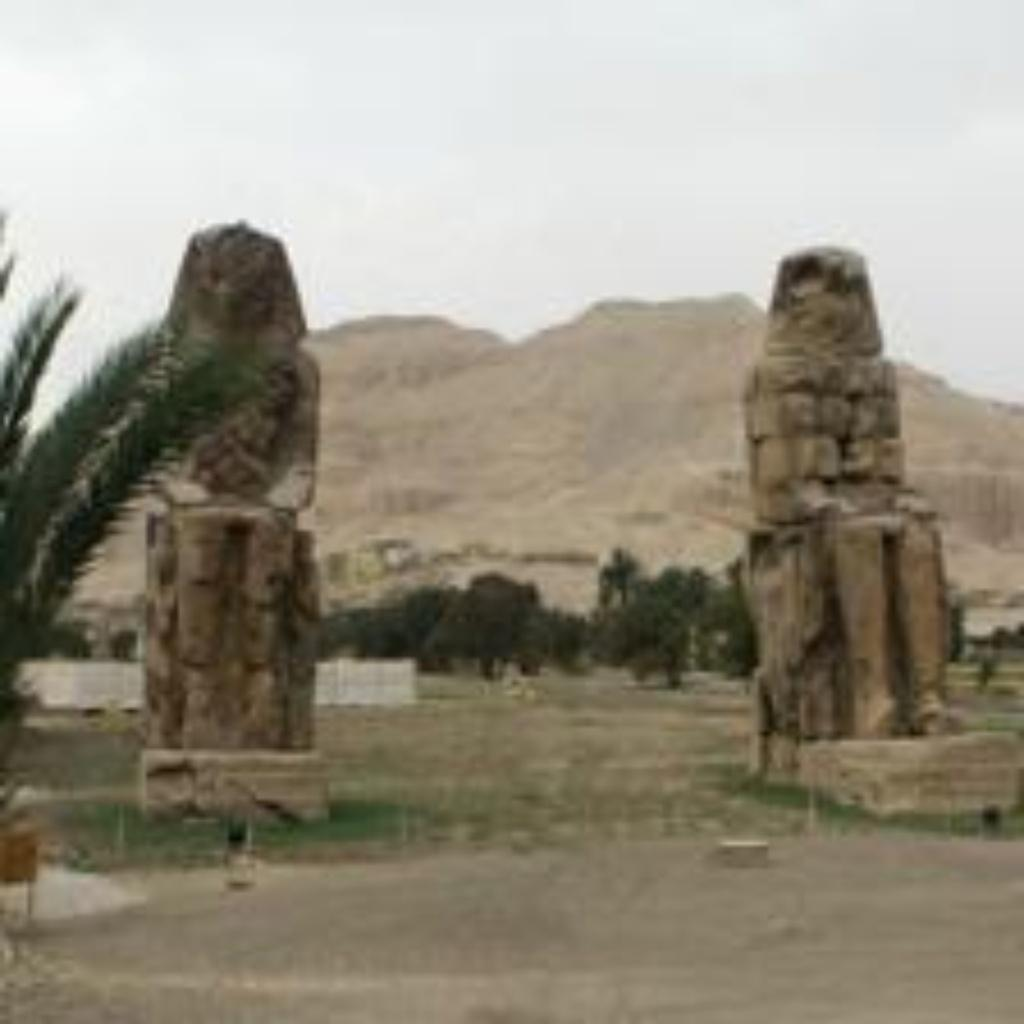Colossoi of Memnon: (133, 193, 350, 813), (722, 238, 960, 777)
